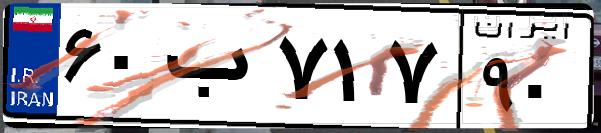0: (525, 38, 570, 115), (110, 28, 158, 98)
1: (330, 28, 385, 110)
6: (57, 26, 110, 100)
7: (270, 28, 330, 110), (385, 28, 445, 110)
9: (475, 38, 525, 113)
ب: (158, 20, 270, 120)
